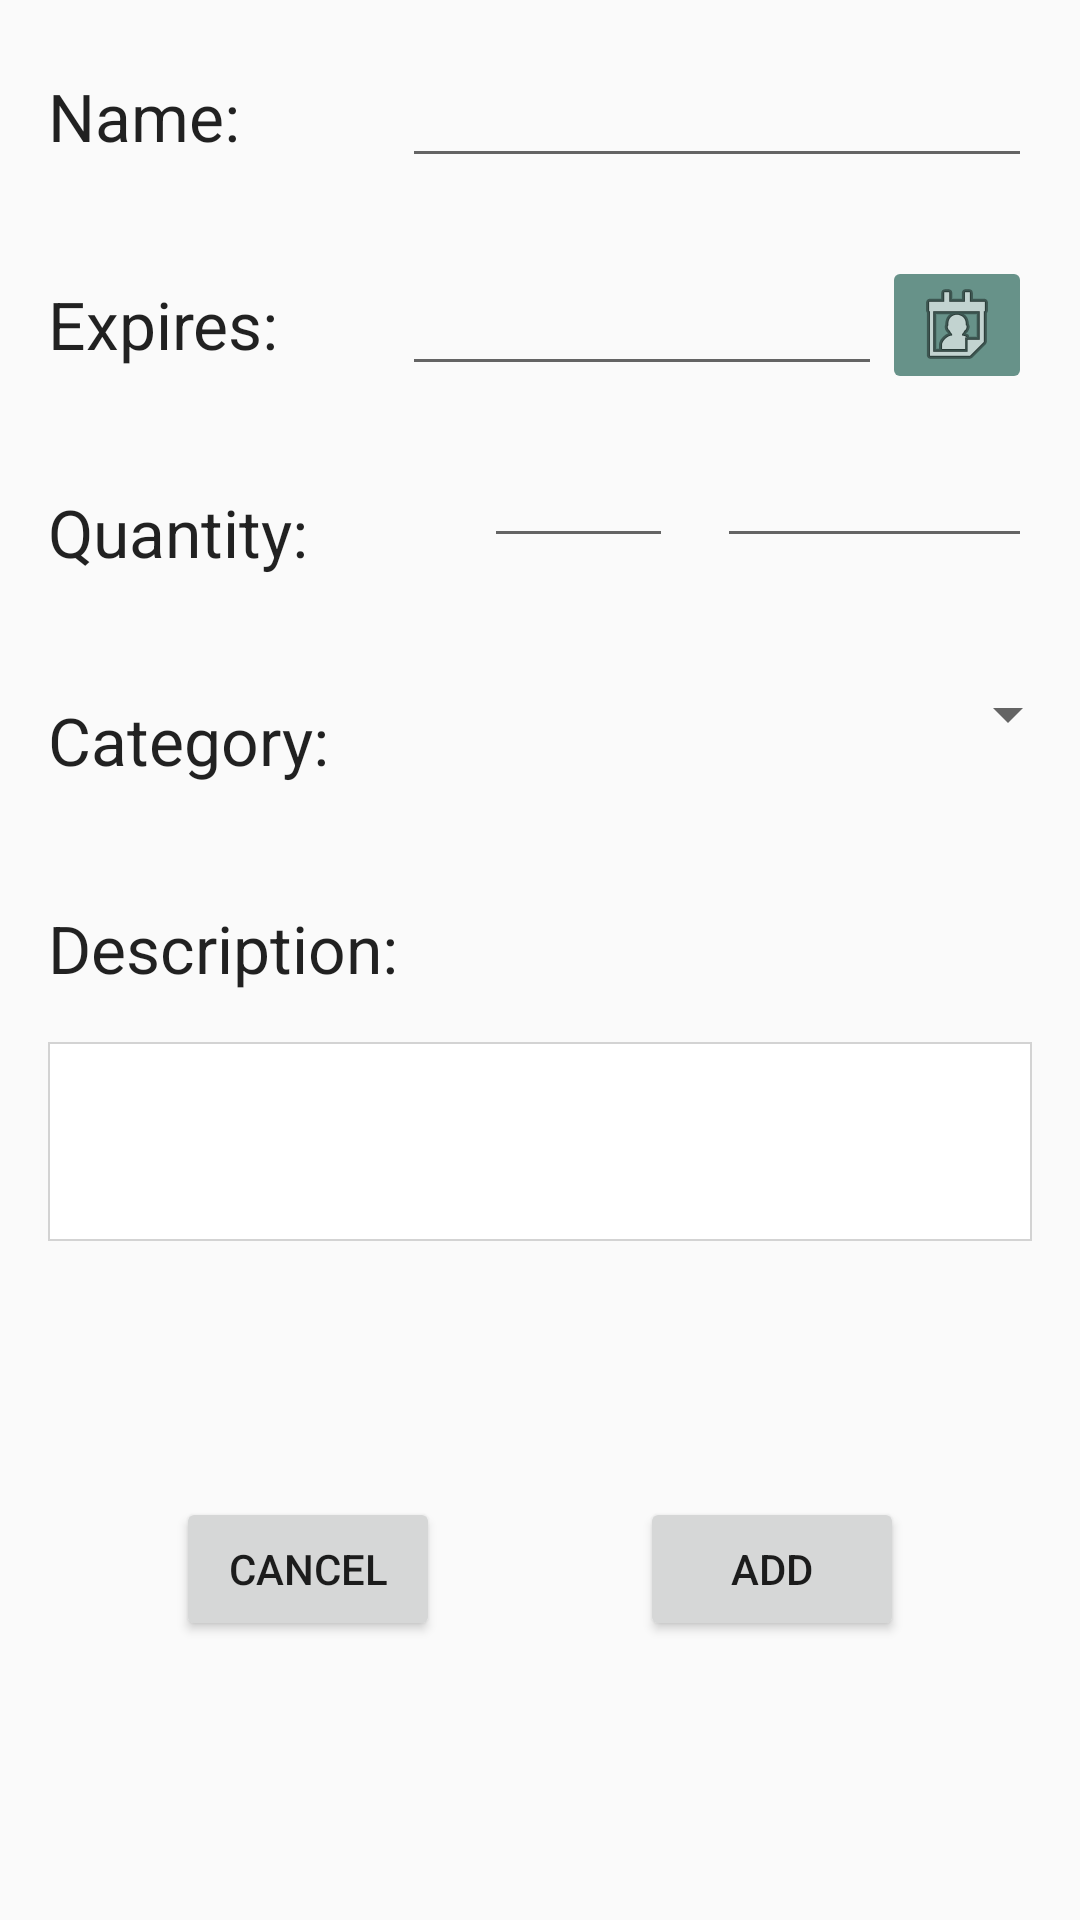

Screen size 1080 × 1920. Icon name, then its box in pixels as (x1, y1, x2, y2):
calendar: (894, 274, 1020, 376)
